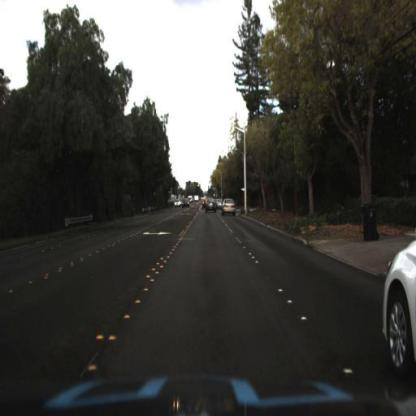car: (379, 234, 415, 376), (221, 197, 238, 220), (204, 195, 218, 215), (174, 195, 184, 211)
